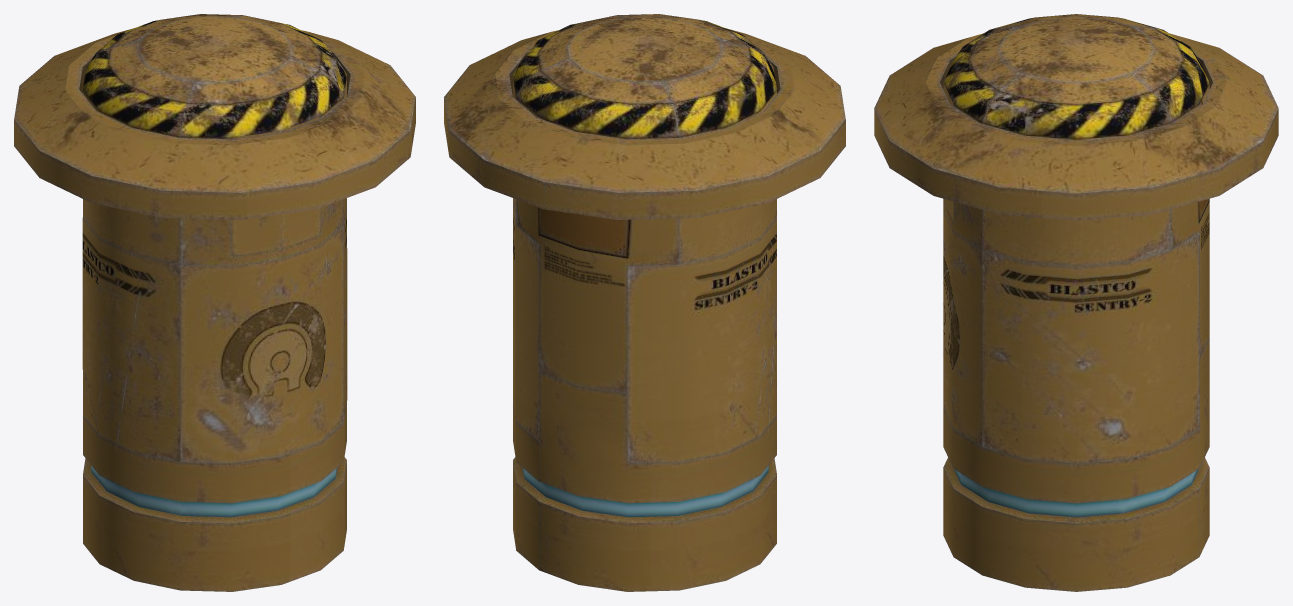
Rendered from robot.glb.
3 renders of one model, left to right at view 1: azimuth 30°, elevation 25°; view 2: azimuth 150°, elevation 25°; view 3: azimuth 270°, elevation 25°, orthographic.
Visible parts, largest first — view 1: Sentry-2; view 2: Sentry-2; view 3: Sentry-2.
Boxes of the visible parts, x1=… form: Sentry-2: x1=14, y1=14, x2=415, y2=591; Sentry-2: x1=444, y1=14, x2=845, y2=591; Sentry-2: x1=874, y1=14, x2=1278, y2=591.
Bounding box in the file's own units: 0.7043 × 0.95 × 0.7043.
1 material, 1 textured.
